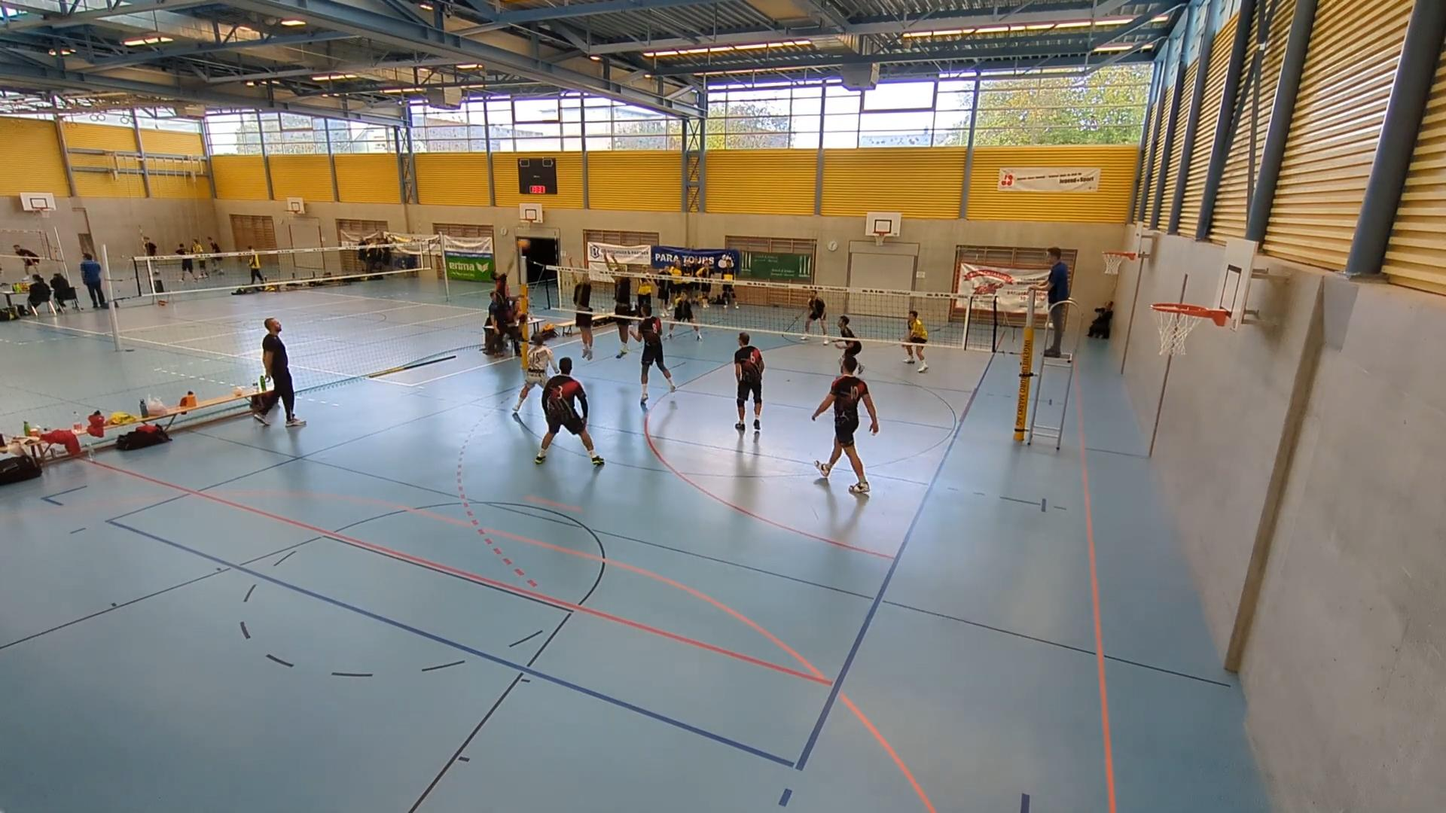Attack: (485, 237, 531, 349)
Block: (600, 255, 636, 363), (569, 256, 596, 365)
Player: (813, 356, 878, 493), (535, 357, 604, 465), (633, 309, 676, 406), (512, 330, 556, 415), (734, 332, 764, 431), (835, 315, 864, 374), (668, 291, 701, 340), (904, 310, 927, 373), (801, 291, 825, 340)
ball: (513, 237, 533, 254)
